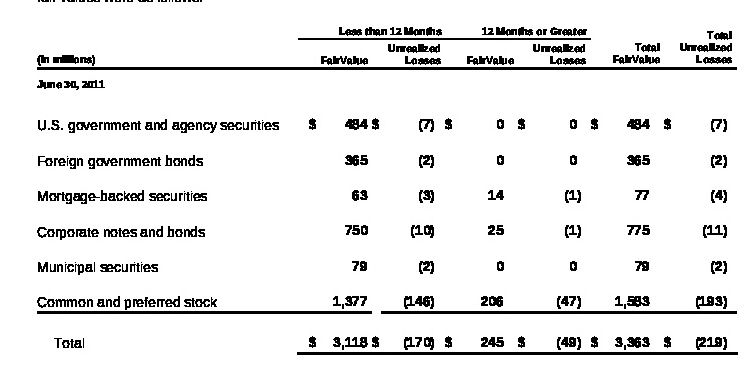table: (0, 0, 755, 374)
